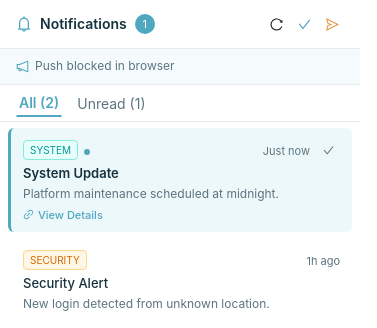
Test: RecruiTrain Push & In-App Notifications Suite › 4. NotificationCenter UI Component › filters between All and Unread tabs
The image size is (377, 328).
Expected: the text "System Update" is shown, [23,165,119,181]
Expected: the text "Security Alert" is shown, [23,275,108,291]
Click the tab "Unread (1)".
click(111, 103)  # box [74,89,148,117]
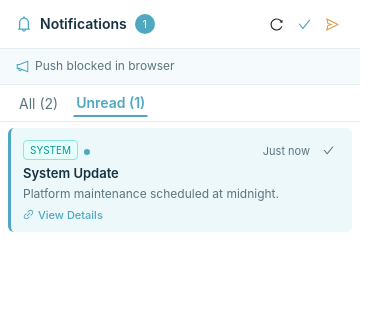
Expected: the text "System Update" is shown, [23,165,119,181]
Result: the text "Security Alert" is gone
